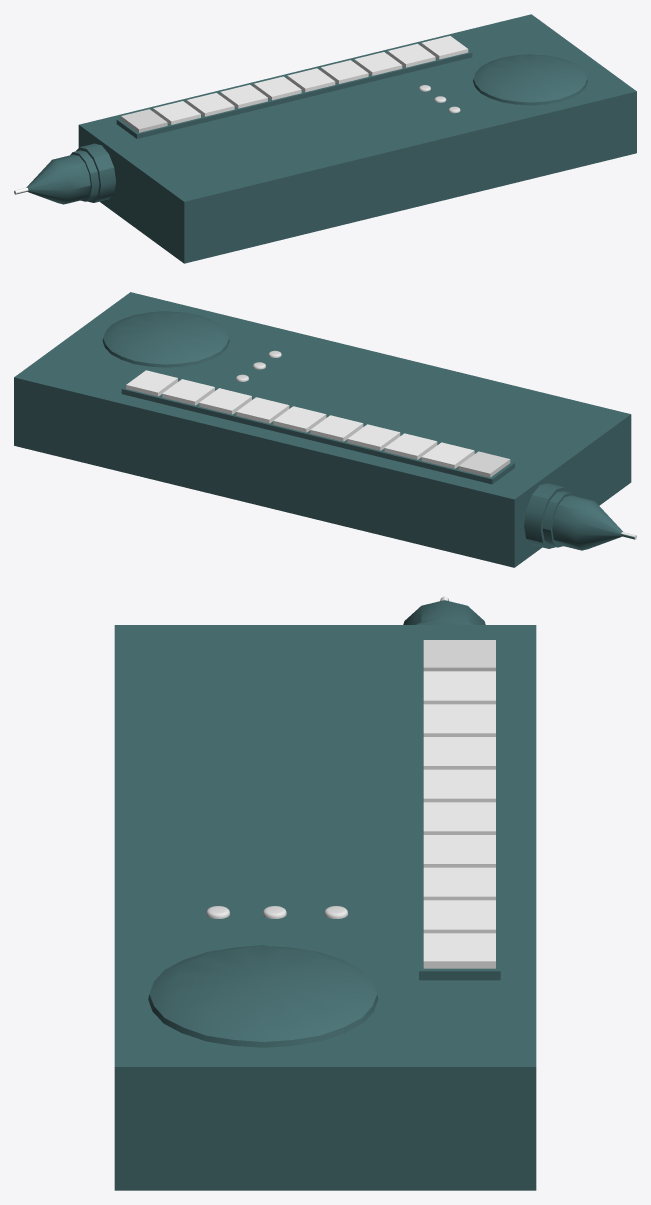
The model's file is meter.fbx.
The picture shows the model from 3 angles, top to bottom: view 1: azimuth 30°, elevation 25°; view 2: azimuth 150°, elevation 25°; view 3: azimuth 270°, elevation 25°; orthographic projection. The views are drawn at different scales.
Parts seen in each view (by area): view 1: needle, blinking mesh, circle; view 2: needle, blinking mesh, circle; view 3: needle, blinking mesh, circle.
Part boxes in pixels (x1,y1,x2,y2): needle: [14, 14, 636, 263]; blinking mesh: [121, 36, 468, 132]; circle: [473, 54, 587, 105]; needle: [14, 292, 636, 567]; blinking mesh: [126, 370, 510, 477]; circle: [102, 311, 229, 367]; needle: [114, 596, 536, 1190]; blinking mesh: [423, 640, 495, 968]; circle: [148, 945, 378, 1047].
Size of the model in its own units: 548 by 69.42 by 186.
